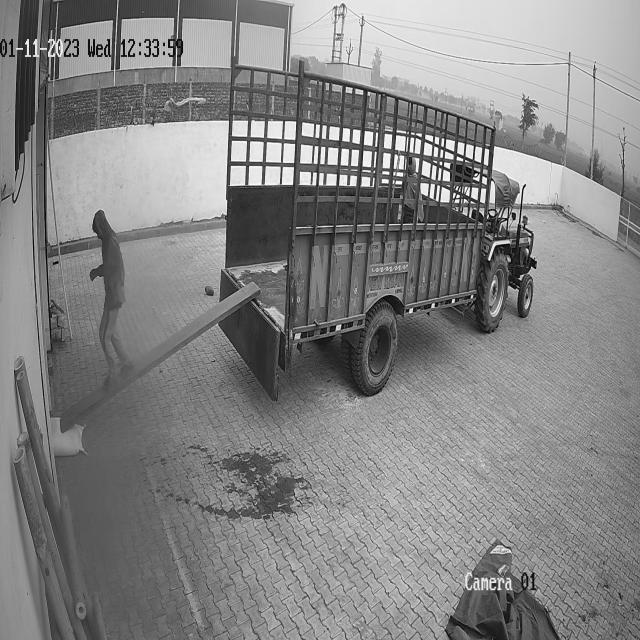sack: (50, 417, 84, 456)
